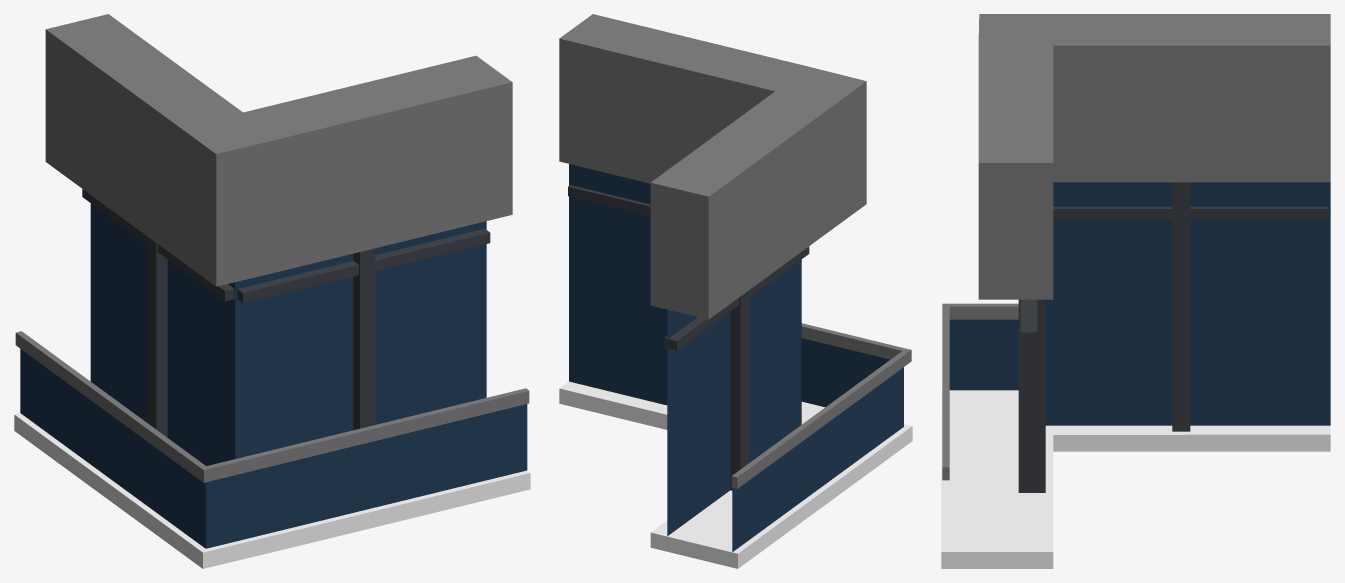
Rendered from top-c1.fbx.
3 renders of one model, left to right at view 1: azimuth 30°, elevation 25°; view 2: azimuth 150°, elevation 25°; view 3: azimuth 270°, elevation 25°, orthographic. The views are drawn at different scales.
Parts seen in each view (by area): view 1: M_Corner.002; view 2: M_Corner.002; view 3: M_Corner.002.
Boxes of the visible parts, x1,y1,x2,y2 form: M_Corner.002: [14, 14, 530, 568]; M_Corner.002: [559, 14, 912, 568]; M_Corner.002: [941, 14, 1330, 568].
Size of the model in its own units: 5.22 by 6 by 5.22.
